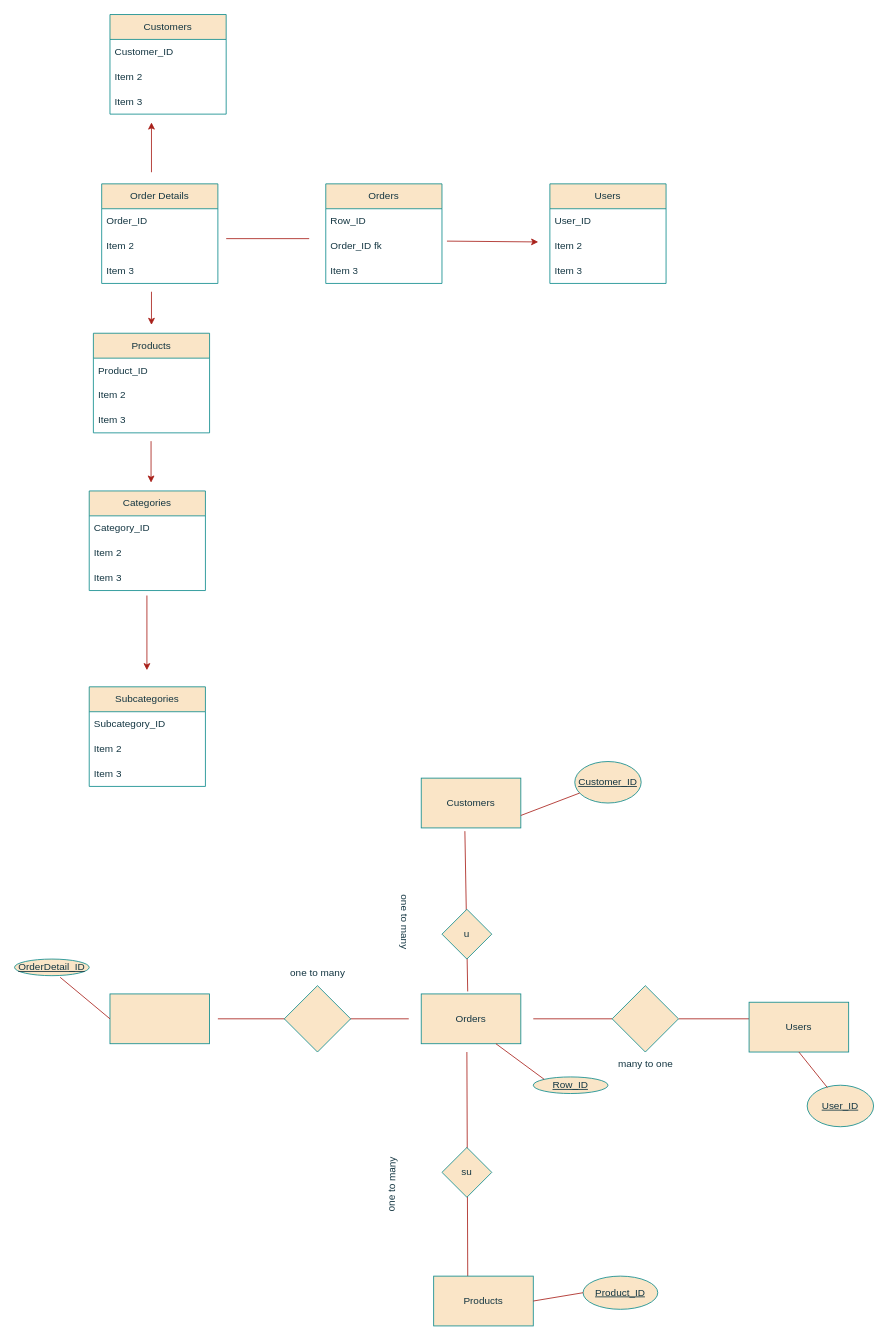
Image size: 888x1340. Some labels were removed from this diagram. Here are the shapes that lost their labels. From the top down, the centre of each, then its label:
At (159,1018): "Order_details".
At (317,1018): "ima".
At (645,1018): "sadrzi".
